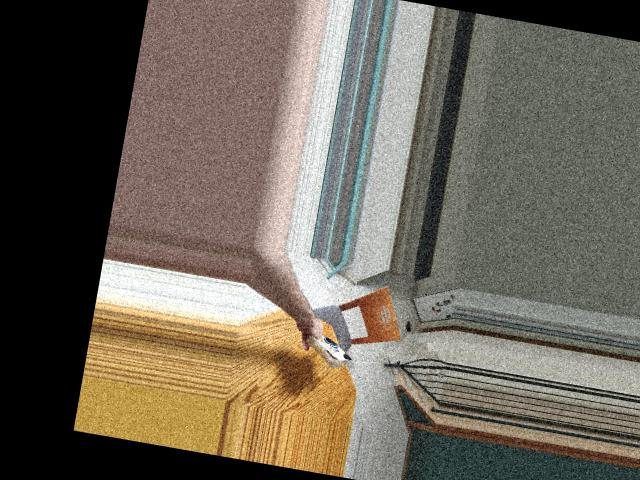cheese: (301, 329, 356, 371)
